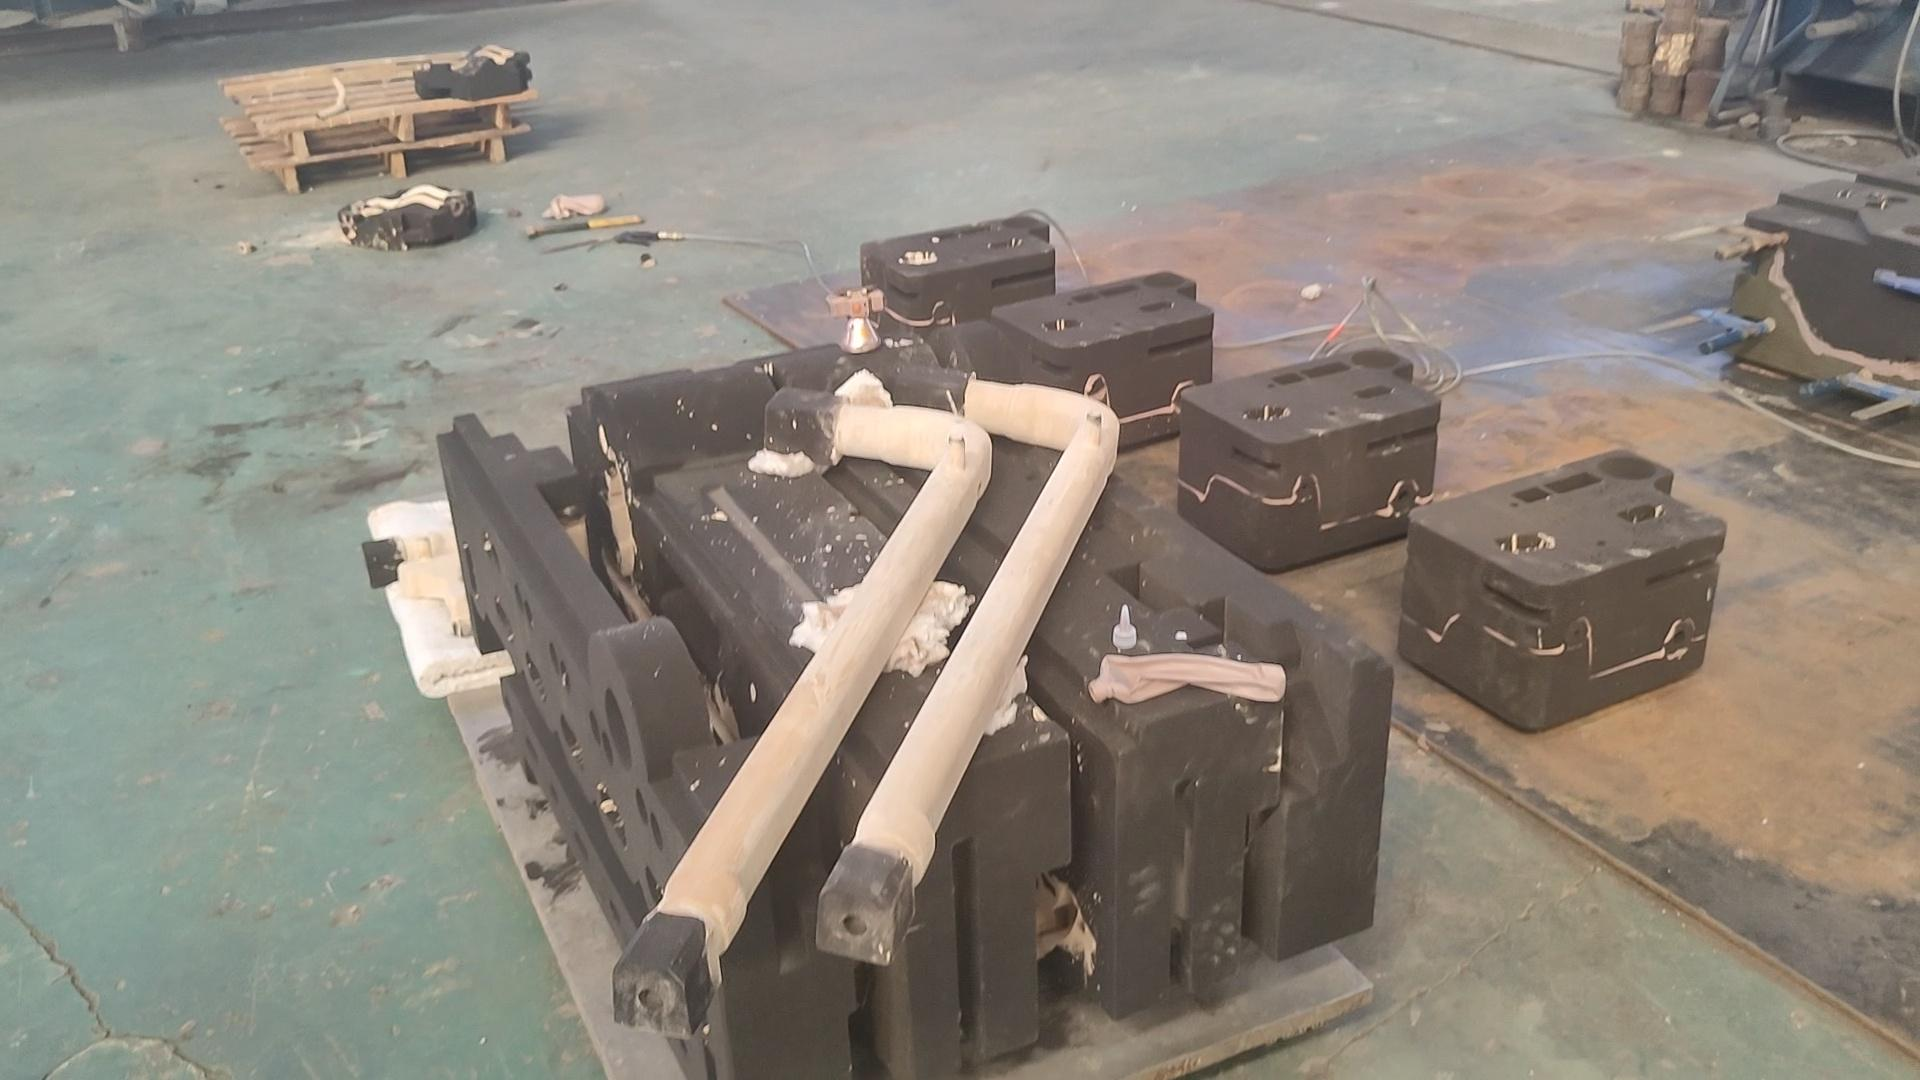pouring hole: (604, 687, 634, 773), (1600, 456, 1655, 480), (1352, 349, 1399, 369), (1143, 272, 1185, 287), (1004, 218, 1040, 229), (1902, 220, 1920, 237)
